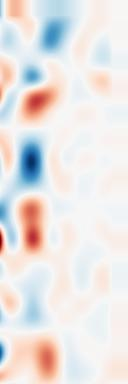filament: (13, 184, 60, 264), (12, 78, 66, 128), (25, 334, 71, 383)
